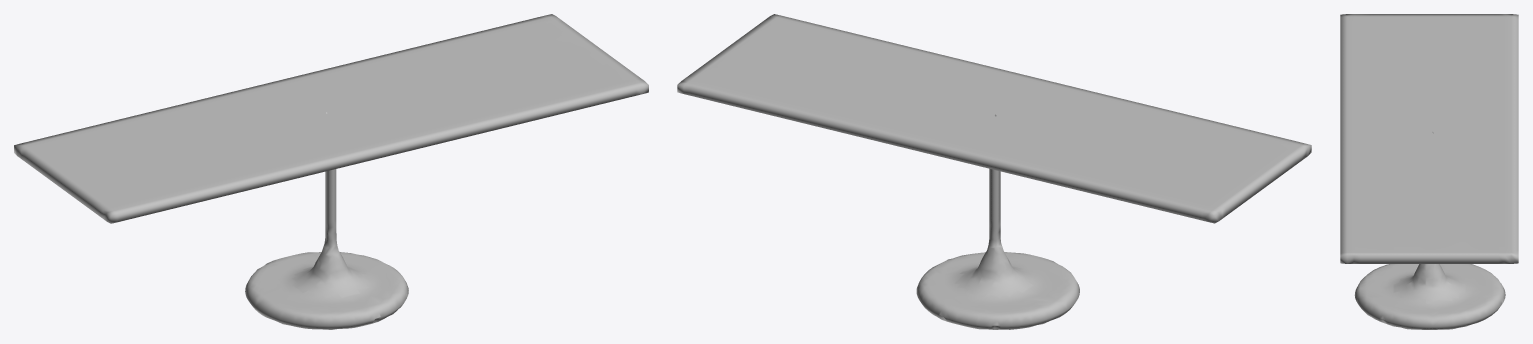
Rendered from long-table-transformed.glb.
The picture shows the model from 3 angles, left to right: view 1: azimuth 30°, elevation 25°; view 2: azimuth 150°, elevation 25°; view 3: azimuth 270°, elevation 25°; orthographic projection. The views are drawn at different scales.
Visible parts, largest first — view 1: model_0; view 2: model_0; view 3: model_0.
Boxes of the visible parts, box(x1,y1,x2,y2) form: model_0: box(14, 14, 648, 329); model_0: box(677, 14, 1311, 329); model_0: box(1340, 14, 1518, 329).
Size of the model in its own units: 949 by 321 by 296.
Materials: 1 (1 with a texture image).
